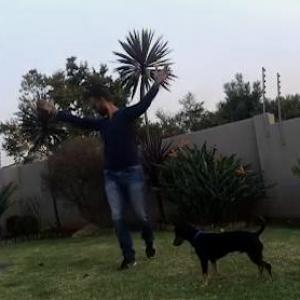takeoff: (23, 58, 183, 260)
